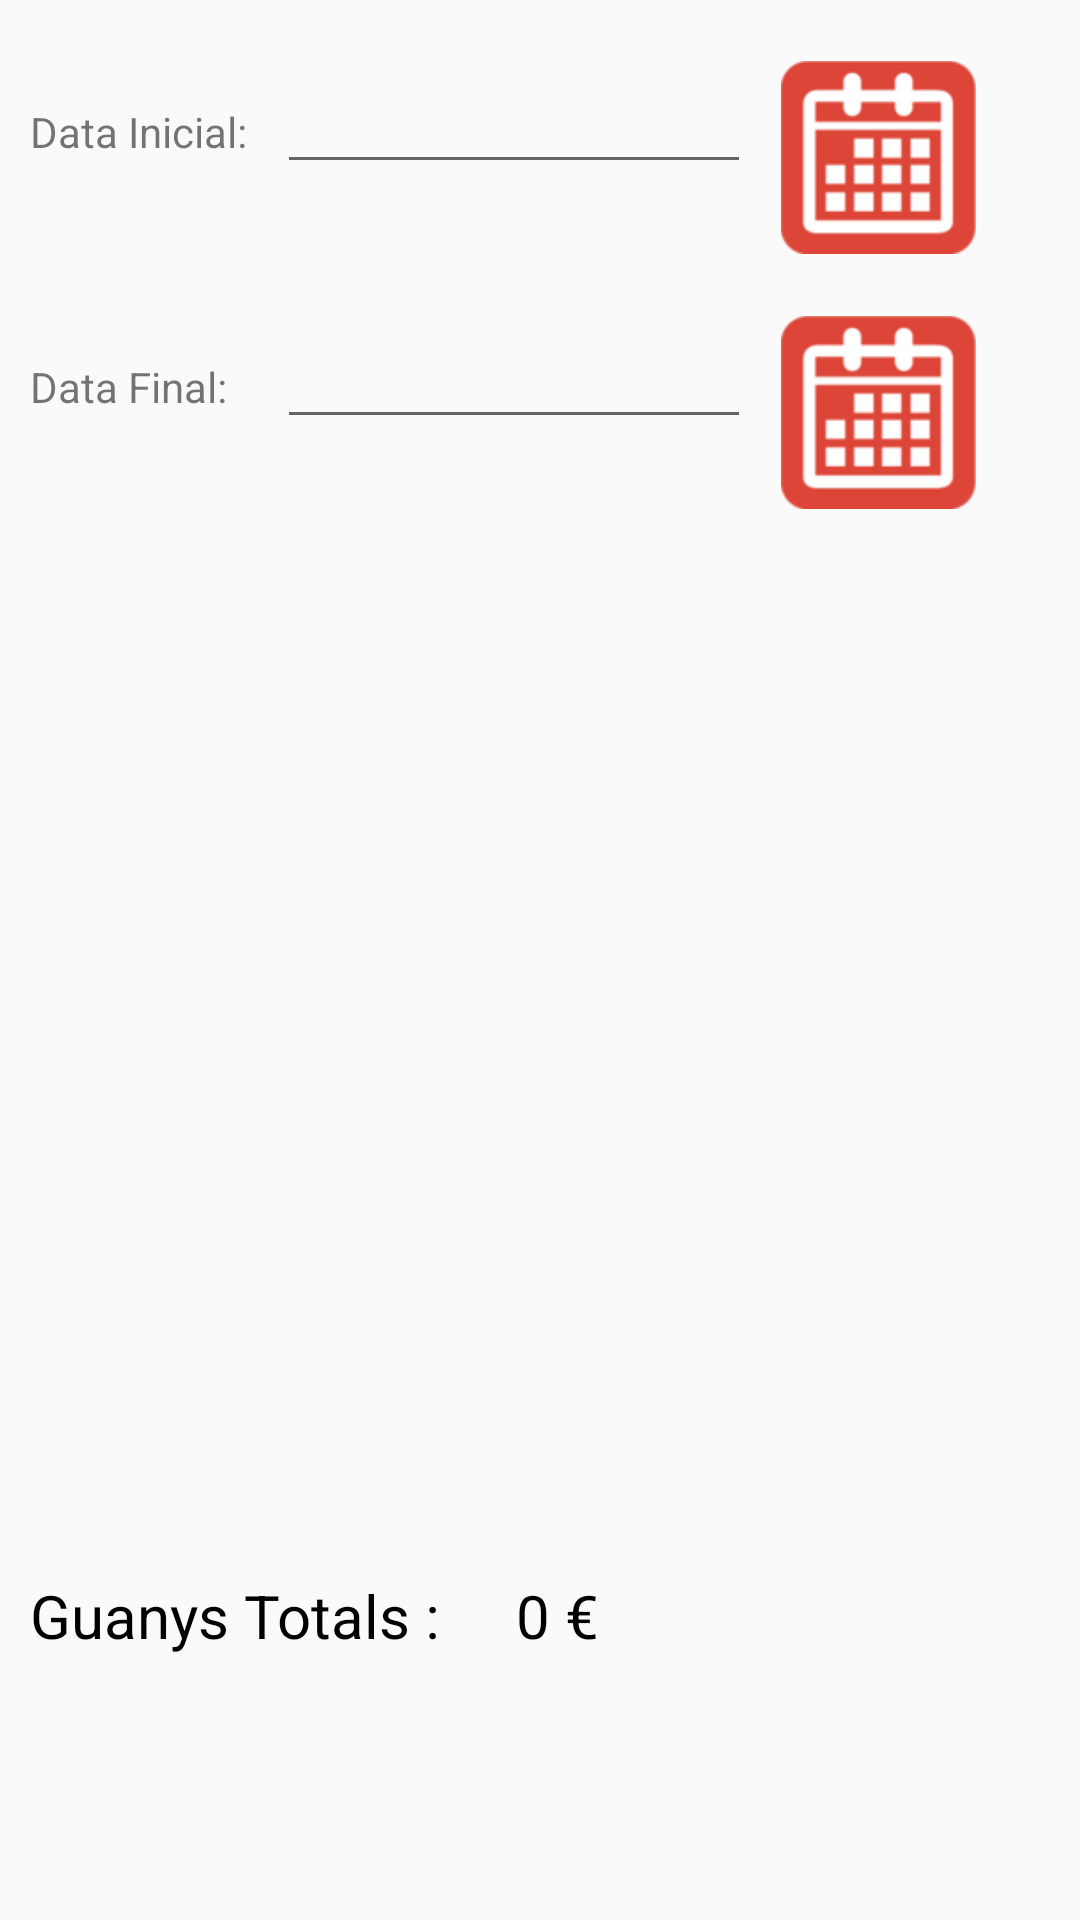

Screen size 1080px×1920px. Icon name, then its box in pixels as (x1, y1, x2, y2):
calendari redimensionada: (781, 61, 976, 254), (781, 316, 976, 509)
